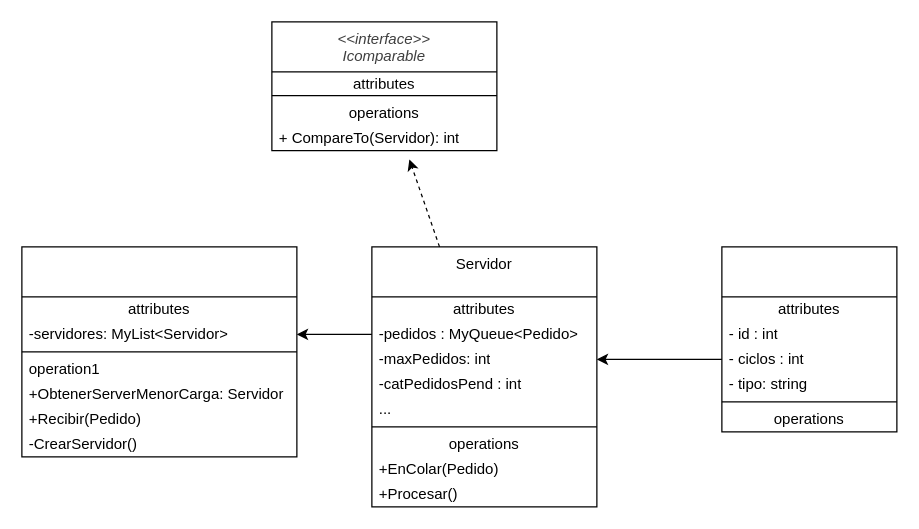
Some shapes in this 919 by 529 pixel diagram are drawn without their labels. The shapes that lost their labels are listed below. From the top down, each one's box as (x1, y1, x2, y2) in pixels, then its label:
(21, 246, 297, 457): Balanceador
(721, 246, 897, 432): Pedido
